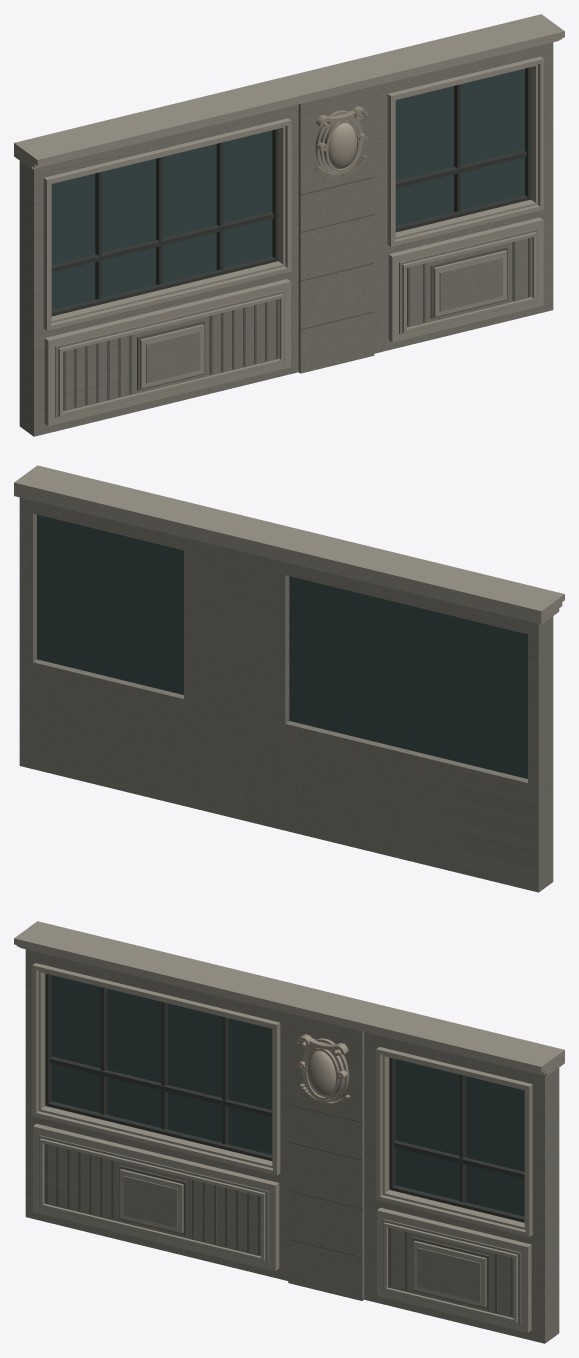
The model's file is huangpu-meilun-east-oval-wreath-and-recessed-panel-raw.glb.
3 renders of one model, top to bottom at view 1: azimuth 30°, elevation 25°; view 2: azimuth 150°, elevation 25°; view 3: azimuth 330°, elevation 25°, orthographic.
Visible parts, largest first — view 1: 美伦大楼东楼椭圆花环与层叠窗裙; view 2: 美伦大楼东楼椭圆花环与层叠窗裙; view 3: 美伦大楼东楼椭圆花环与层叠窗裙.
Part boxes in pixels (left/top/right/bottom): 美伦大楼东楼椭圆花环与层叠窗裙: left=14, top=14, right=564, bottom=436; 美伦大楼东楼椭圆花环与层叠窗裙: left=14, top=465, right=564, bottom=892; 美伦大楼东楼椭圆花环与层叠窗裙: left=14, top=921, right=564, bottom=1343.
Size of the model in its own units: 6.35 by 3.26 by 0.544.
8 materials, 1 textured.
